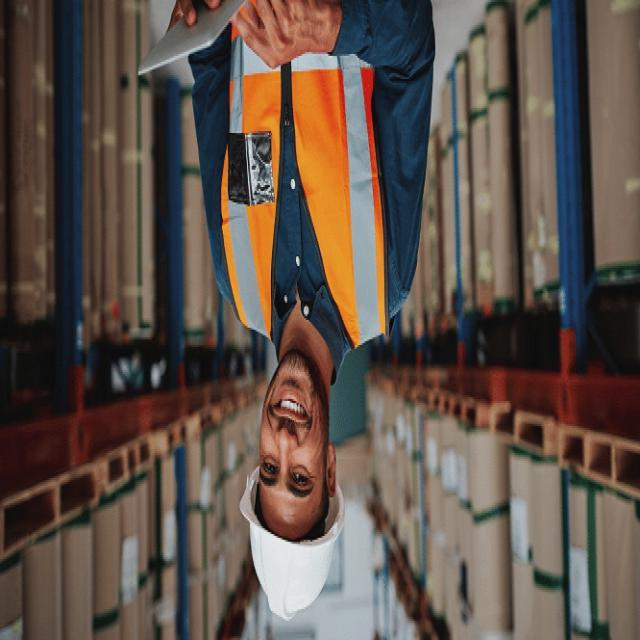safetyhelmet: (228, 398, 358, 618)
